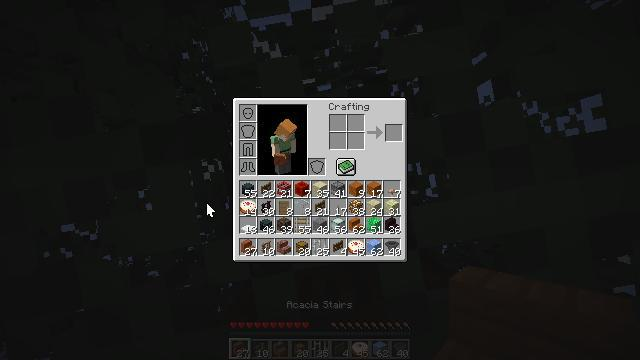cursor: (202, 206, 218, 216)
